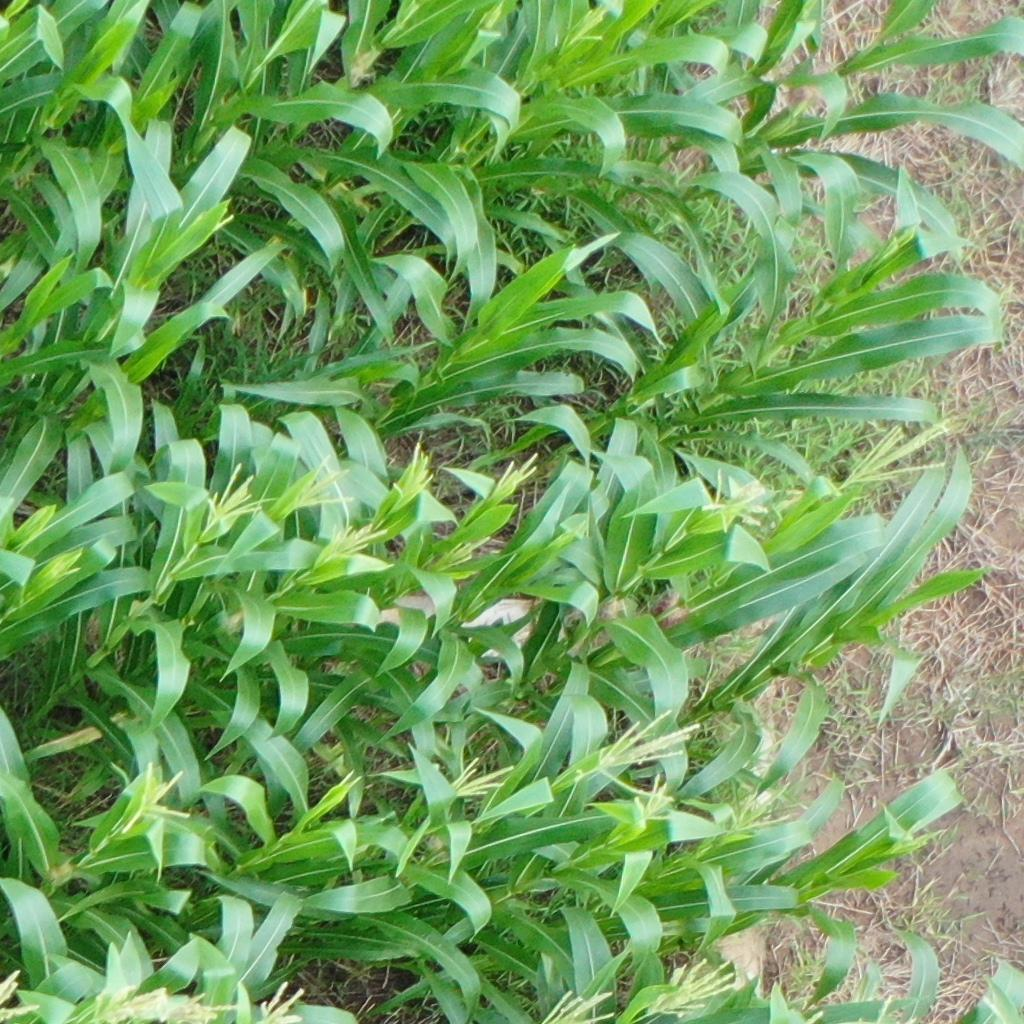Tassel: (594, 700, 708, 803), (834, 413, 958, 490), (104, 758, 199, 834), (700, 466, 775, 534), (275, 455, 360, 512), (203, 463, 272, 524), (725, 772, 793, 833), (444, 754, 519, 803), (311, 525, 390, 568), (667, 951, 744, 995), (388, 436, 431, 507), (630, 771, 678, 832), (493, 449, 541, 504), (3, 508, 61, 547), (894, 819, 949, 857), (439, 536, 493, 573), (873, 224, 922, 263), (569, 1, 611, 46), (549, 509, 588, 550), (38, 553, 85, 583), (479, 1, 507, 35), (1, 963, 25, 995), (399, 1, 425, 22)
